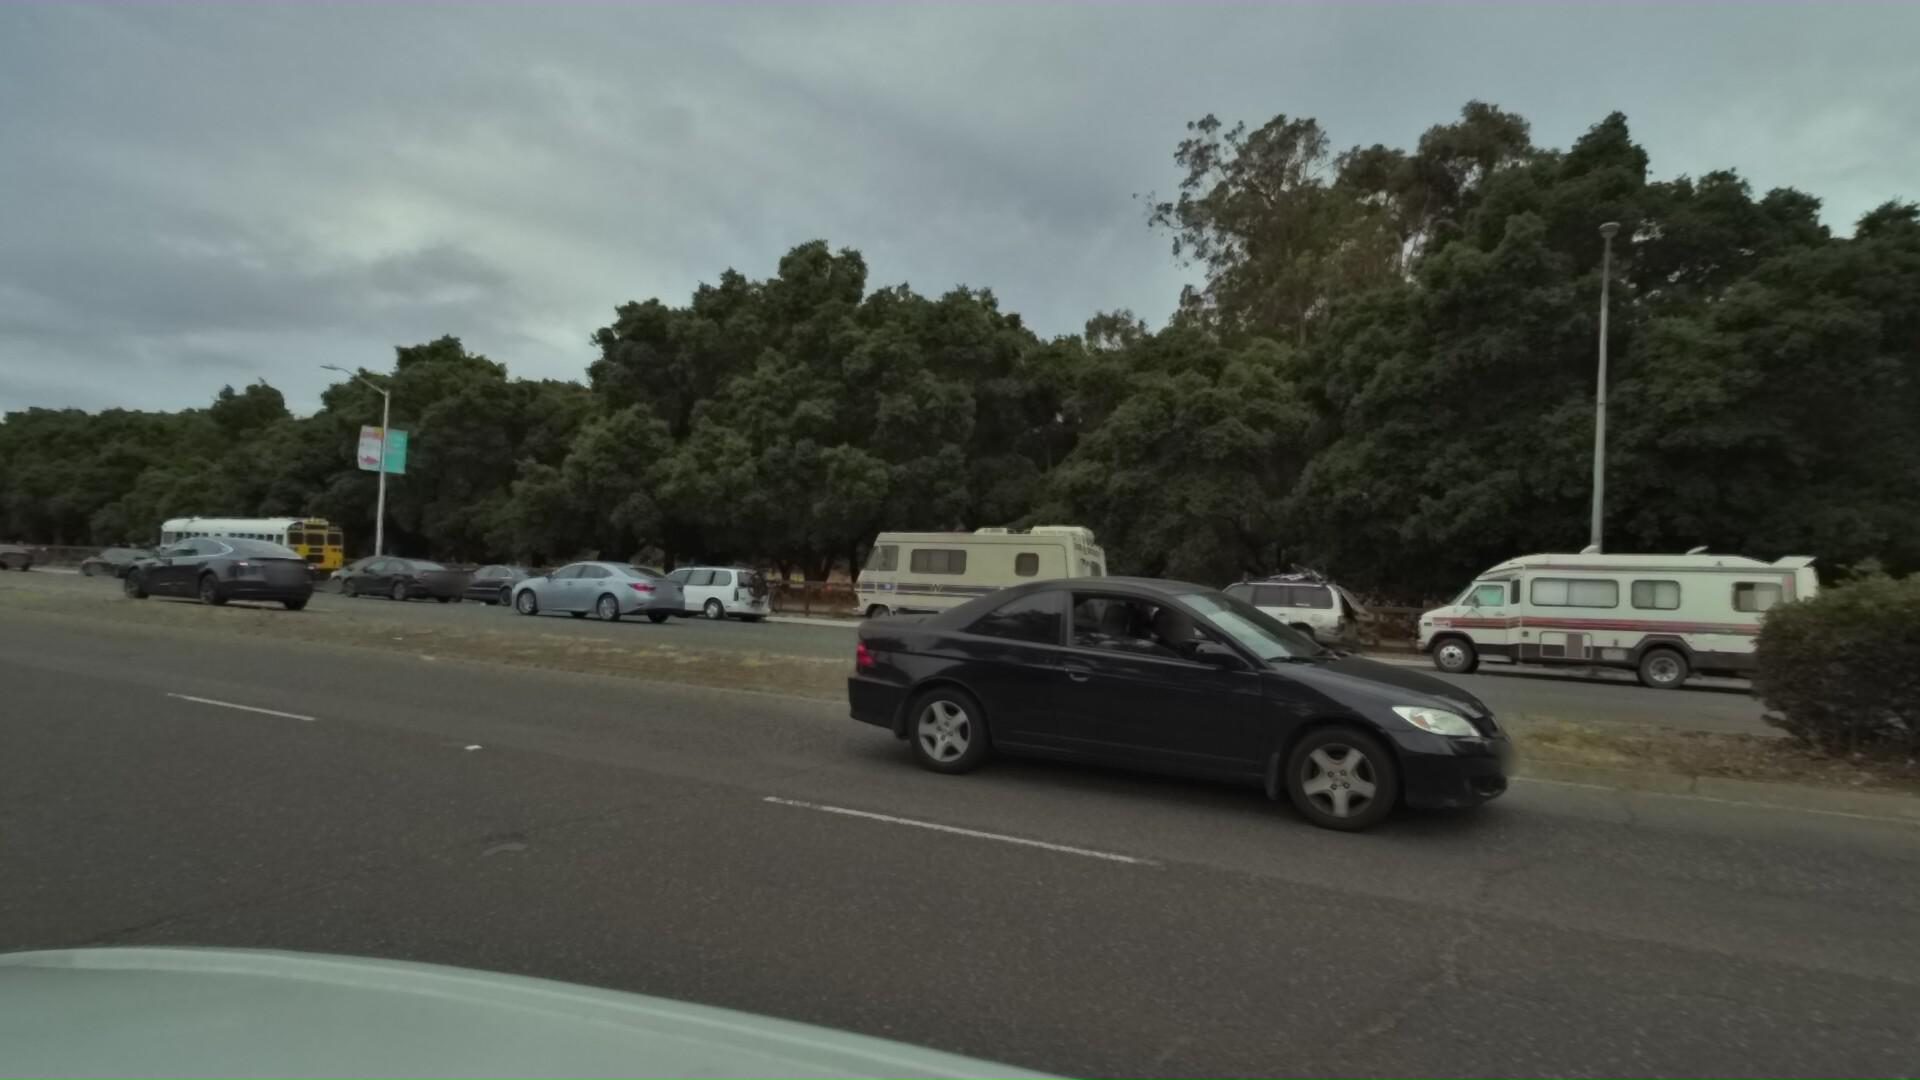bus: (135, 506, 347, 587)
car: (810, 545, 1524, 864), (1106, 547, 1350, 665), (99, 525, 316, 609), (473, 547, 669, 622), (603, 553, 775, 620), (422, 554, 560, 607), (315, 549, 448, 599), (311, 545, 436, 595), (76, 538, 169, 578)
other_vehicle: (1369, 527, 1787, 698), (816, 510, 1101, 636)
